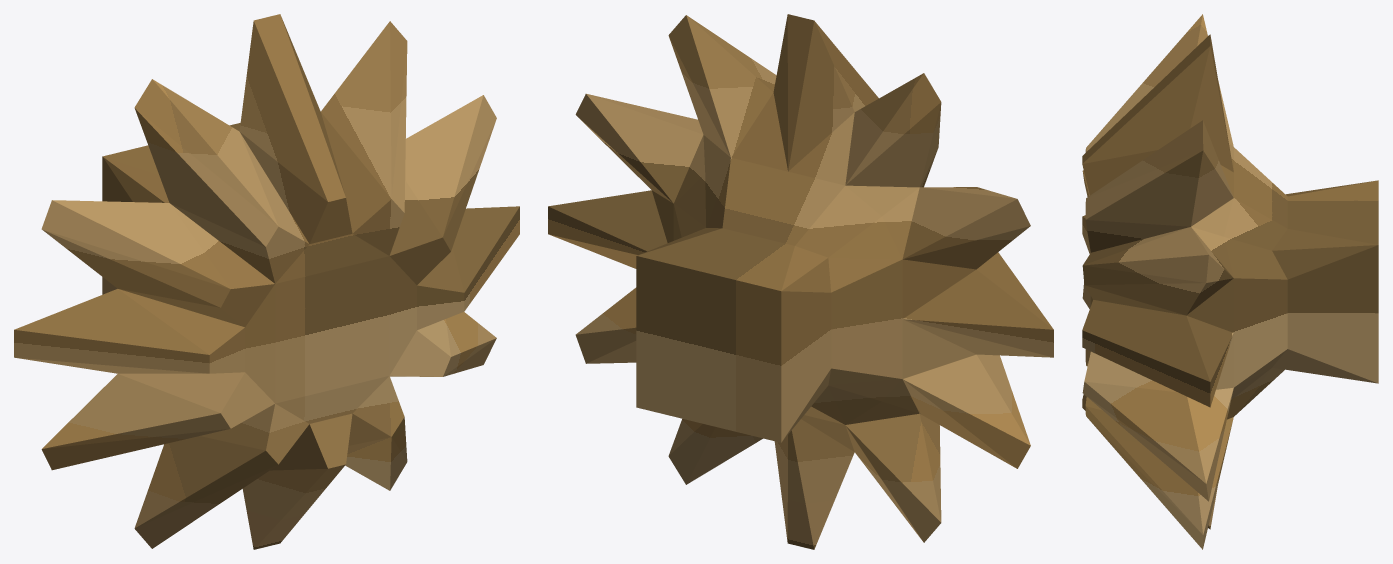
The model's file is rod_gearbox_connection.obj.
3 views of the same model, side by side, from view 1: azimuth 30°, elevation 25°; view 2: azimuth 150°, elevation 25°; view 3: azimuth 270°, elevation 25° (orthographic). The views are drawn at different scales.
Visible parts, largest first — view 1: Cube; view 2: Cube; view 3: Cube.
Boxes of the visible parts, x1=… form: Cube: x1=14, y1=14, x2=519, y2=549; Cube: x1=548, y1=14, x2=1053, y2=549; Cube: x1=1082, y1=14, x2=1378, y2=549.
Bounding box in the file's own units: 0.6388 × 0.6388 × 0.3546.
